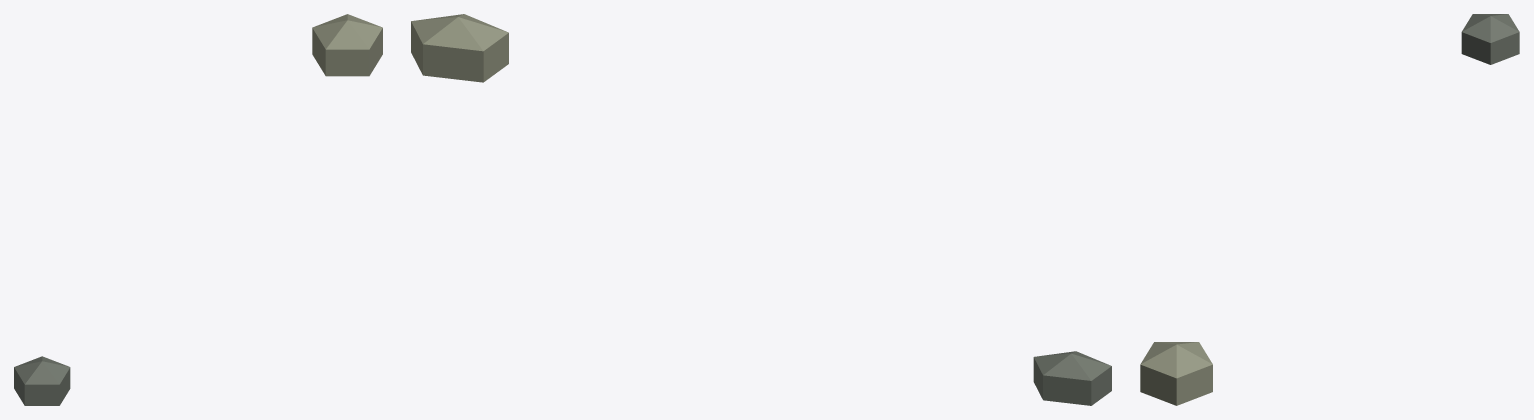
File: pebble_scatter_lod2.obj
3 renders of one model, left to right at view 1: azimuth 90°, elevation 25°; view 2: azimuth 150°, elevation 25°; view 3: azimuth 270°, elevation 25°, orthographic. The views are drawn at different scales.
Parts seen in each view (by area): view 1: pebble_scatter_lod2; view 2: pebble_scatter_lod2; view 3: pebble_scatter_lod2.
Part boxes in pixels (box(x1,y1,x2,y2)): pebble_scatter_lod2: box(14, 14, 382, 405); pebble_scatter_lod2: box(411, 14, 1111, 405); pebble_scatter_lod2: box(1140, 14, 1519, 405).
Size of the model in its own units: 1.81 by 0.1245 by 0.7783.
1 material, 1 textured.
